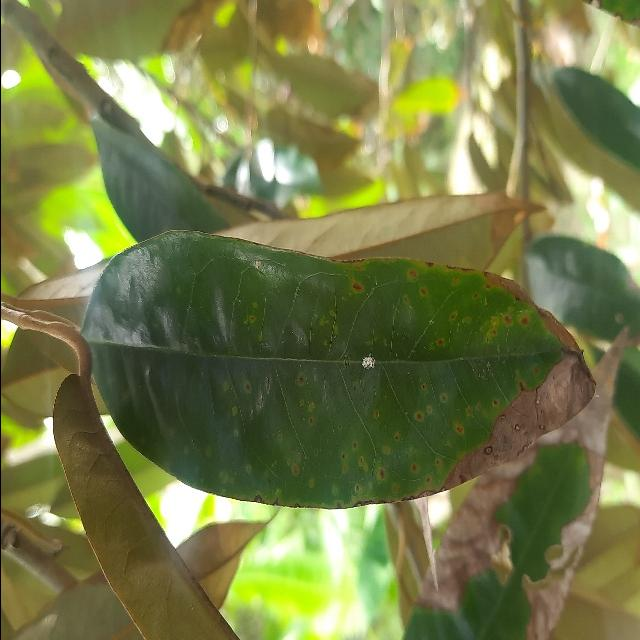Leaf Spot: (77, 223, 596, 515)
